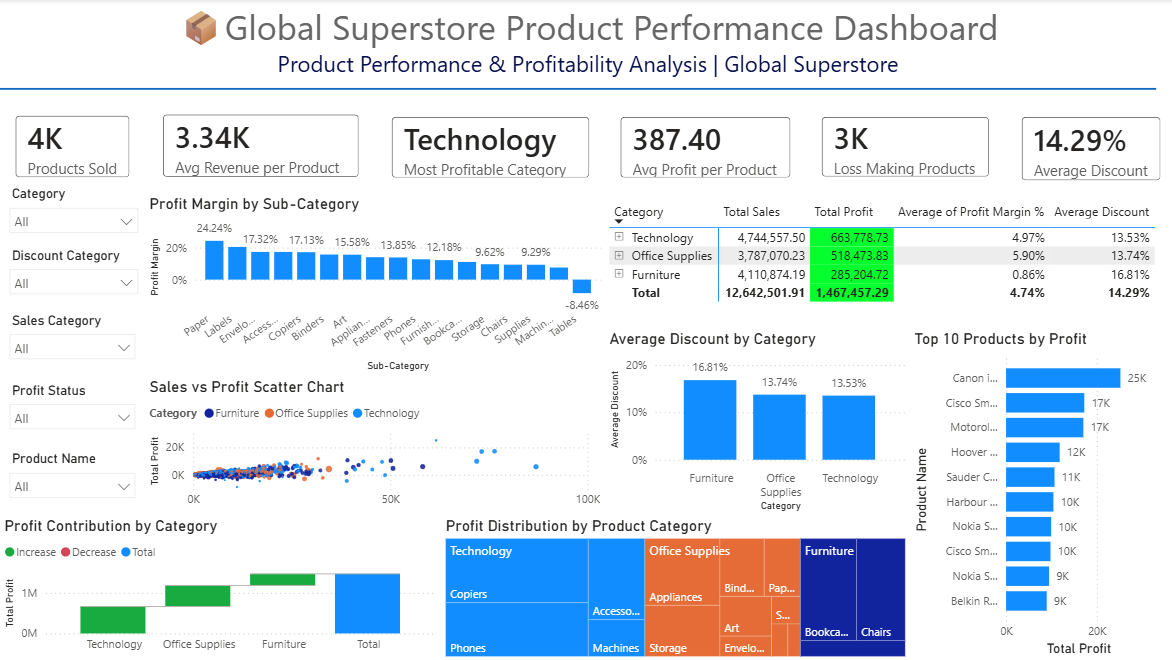

What the dashboard file says about the page in this screenshot:
{"tool":"powerbi","page":{"name":"Product Dashboard","canvas":[1280,720],"ordinal":1},"visuals":[{"type":"textbox","box":[9.7,0,1238.4,69.3],"z":0},{"type":"textbox","box":[0,0,1280.3,109],"z":1000},{"type":"cardVisual","fields":{"Data":["Orders.Products Sold"]},"box":[0,109.7,158,101.6],"z":2000},{"type":"cardVisual","fields":{"Data":["Orders.Avg Revenue per Product"]},"box":[160.2,109,247.7,102.3],"z":3000},{"type":"cardVisual","fields":{"Data":["Orders.Avg Profit per Product"]},"box":[658.3,111.7,219.4,101],"z":4000},{"type":"cardVisual","fields":{"Data":["Orders.Average Discount"]},"box":[1094.9,111.3,185.4,103.2],"z":5000},{"type":"cardVisual","fields":{"Data":["Orders.Most Profitable Category"]},"box":[409.3,111.7,249.1,101],"z":7000},{"type":"shape","box":[0,84.8,1258.7,26.9],"z":8000},{"type":"clusteredBarChart","title":"Top 10 Products by Profit","fields":{"Category":["Orders.Product Name"],"Y":["Orders.Total Profit"]},"box":[990.8,359.4,278.7,360.8],"z":9000},{"type":"clusteredColumnChart","title":"Average Discount by Category","fields":{"Category":["Orders.Category"],"Y":["Orders.Average Discount"]},"box":[658.3,359.4,332.5,203.3],"z":12000},{"type":"scatterChart","title":"Sales vs Profit Scatter Chart","fields":{"X":["Orders.Total Sales"],"Y":["Orders.Total Profit"],"Series":["Orders.Category"],"Category":["Orders.Product Name"],"Size":["CountNonNull(Orders.Sales)"]},"box":[157.5,411.9,500.8,150.8],"z":13000},{"type":"treemap","title":"Profit Distribution by Product Category","fields":{"Group":["Orders.Category"],"Details":["Orders.Sub-Category"],"Values":["Orders.Total Profit"]},"box":[480.6,562.7,510.2,157.5],"z":14000},{"type":"pivotTable","fields":{"Rows":["Orders.Category","Orders.Sub-Category","Orders.Product Name"],"Values":["Orders.Total Sales","Orders.Total Profit","Avg(Orders.Profit Margin %)","Orders.Average Discount"]},"box":[658.3,215.4,611.2,144],"z":15000},{"type":"waterfallChart","title":"Profit Contribution by Category","fields":{"Category":["Orders.Category"],"Y":["Orders.Total Profit"]},"box":[0,562.7,480.6,157.5],"z":16000},{"type":"slicer","fields":{"Values":["Orders.Category"]},"box":[0,199.2,160.2,66],"z":17000},{"type":"slicer","fields":{"Values":["Orders.Sales Category"]},"box":[0,336.6,157.5,74],"z":18000},{"type":"slicer","fields":{"Values":["Orders.Product Name"]},"box":[0,487.3,157.5,75.4],"z":19000},{"type":"slicer","fields":{"Values":["Orders.Profit Status"]},"box":[0,411.9,157.5,75.4],"z":20000},{"type":"slicer","fields":{"Values":["Orders.Discount Category"]},"box":[0,265.2,160.2,71.4],"z":21000},{"type":"cardVisual","fields":{"Data":["Orders.Loss Making Products"]},"box":[877.7,111.7,216.7,99.6],"z":21001},{"type":"columnChart","fields":{"Category":["Orders.Sub-Category"],"Y":["Orders.Profit Margin"]},"box":[157.5,212.7,500.8,197.9],"z":21002}]}

Visuals, with their boxes in screenshot pixels (x1, y1, x2, y2), scaled from the page's 1280x720 canvas onto the 1172x660 screenshot:
textbox: BBox(9, 0, 1143, 64)
textbox: BBox(0, 0, 1171, 100)
cardVisual - Orders.Products Sold: BBox(0, 101, 145, 194)
cardVisual - Orders.Avg Revenue per Product: BBox(147, 100, 373, 194)
cardVisual - Orders.Avg Profit per Product: BBox(603, 102, 804, 195)
cardVisual - Orders.Average Discount: BBox(1003, 102, 1171, 197)
cardVisual - Orders.Most Profitable Category: BBox(375, 102, 603, 195)
shape: BBox(0, 78, 1152, 102)
"Top 10 Products by Profit" clusteredBarChart: BBox(907, 329, 1162, 659)
"Average Discount by Category" clusteredColumnChart: BBox(603, 329, 907, 516)
"Sales vs Profit Scatter Chart" scatterChart: BBox(144, 378, 603, 516)
"Profit Distribution by Product Category" treemap: BBox(440, 516, 907, 659)
pivotTable - Orders.Category x Orders.Sub-Category: BBox(603, 197, 1162, 329)
"Profit Contribution by Category" waterfallChart: BBox(0, 516, 440, 659)
slicer - Orders.Category: BBox(0, 183, 147, 243)
slicer - Orders.Sales Category: BBox(0, 309, 144, 376)
slicer - Orders.Product Name: BBox(0, 447, 144, 516)
slicer - Orders.Profit Status: BBox(0, 378, 144, 447)
slicer - Orders.Discount Category: BBox(0, 243, 147, 309)
cardVisual - Orders.Loss Making Products: BBox(804, 102, 1002, 194)
columnChart - Orders.Sub-Category x Orders.Profit Margin: BBox(144, 195, 603, 376)
